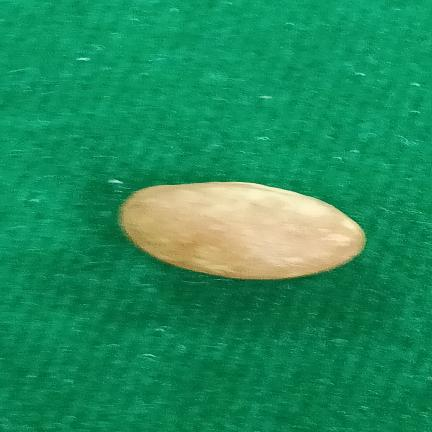parchment: (119, 182, 366, 280)
